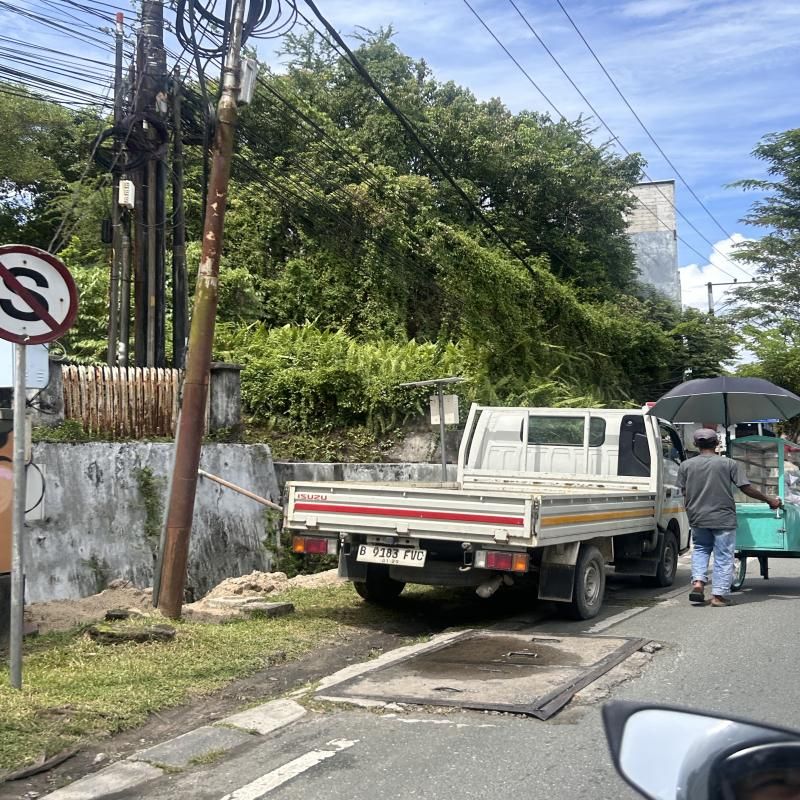license plate on a car: (356, 543, 426, 568)
